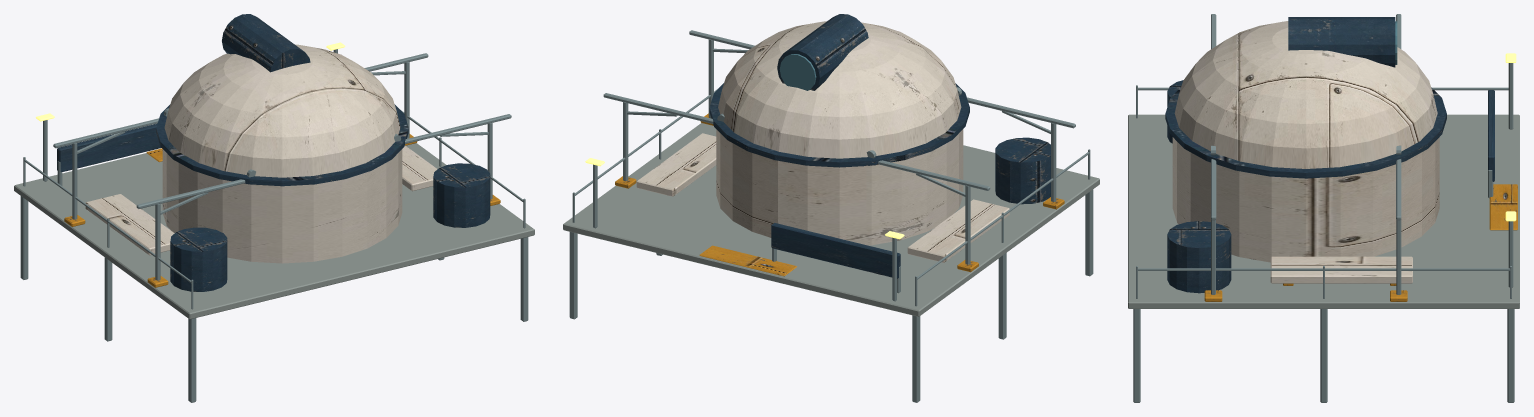
Rendered from dreamisland.glb.
The picture shows the model from 3 angles, left to right: view 1: azimuth 30°, elevation 25°; view 2: azimuth 150°, elevation 25°; view 3: azimuth 270°, elevation 25°; orthographic projection. The views are drawn at different scales.
Parts seen in each view (by area): view 1: static_signature_paint, static_signature_deck, dome_left_signature_paint, static_signature_steel, dome_right_signature_paint, star_lens_signature_paint; view 2: static_signature_paint, static_signature_deck, dome_left_signature_paint, static_signature_steel, dome_right_signature_paint, star_lens_signature_paint, star_lens_signature_glass; view 3: static_signature_paint, static_signature_deck, dome_right_signature_paint, static_signature_steel, star_lens_signature_paint, dome_left_signature_paint.
Part boxes in pixels (x1=…): static_signature_paint: x1=57, y1=104, x2=500, y2=291; static_signature_deck: x1=14, y1=143, x2=534, y2=319; dome_left_signature_paint: x1=164, y1=53, x2=341, y2=177; static_signature_steel: x1=20, y1=49, x2=528, y2=402; dome_right_signature_paint: x1=290, y1=44, x2=400, y2=170; star_lens_signature_paint: x1=222, y1=14, x2=310, y2=72; static_signature_paint: x1=615, y1=83, x2=1064, y2=278; static_signature_deck: x1=563, y1=123, x2=1099, y2=316; dome_left_signature_paint: x1=779, y1=24, x2=961, y2=158; static_signature_steel: x1=569, y1=30, x2=1093, y2=402; dome_right_signature_paint: x1=718, y1=21, x2=869, y2=151; star_lens_signature_paint: x1=777, y1=14, x2=868, y2=90; star_lens_signature_glass: x1=779, y1=54, x2=816, y2=90; static_signature_paint: x1=1165, y1=80, x2=1517, y2=301; static_signature_deck: x1=1128, y1=114, x2=1519, y2=308; dome_right_signature_paint: x1=1174, y1=38, x2=1437, y2=168; static_signature_steel: x1=1133, y1=14, x2=1514, y2=402; star_lens_signature_paint: x1=1288, y1=17, x2=1395, y2=67; dome_left_signature_paint: x1=1179, y1=21, x2=1432, y2=93.
Bounding box in the file's own units: 27 × 18.1 × 22.
5 materials, 1 textured.
